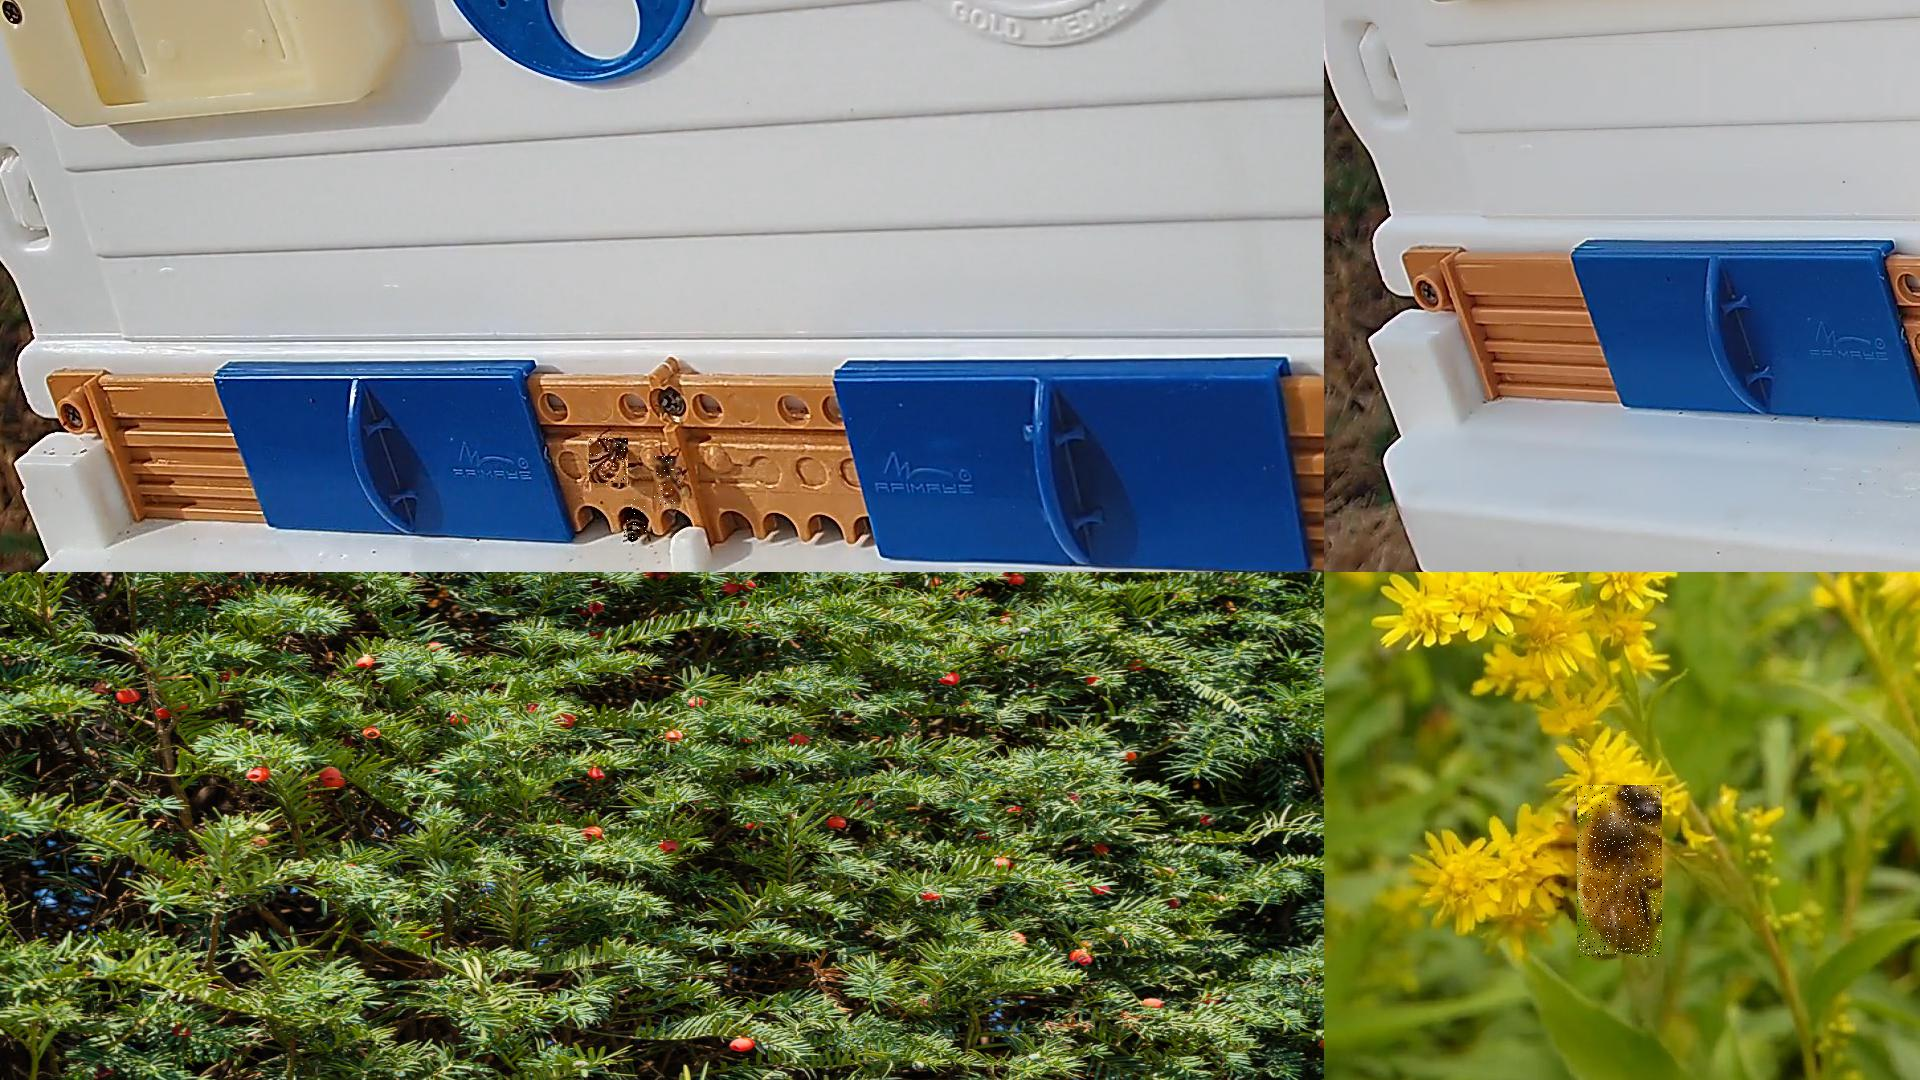bee: (1577, 786, 1663, 959), (589, 439, 629, 488), (654, 456, 683, 509), (624, 500, 647, 542)
